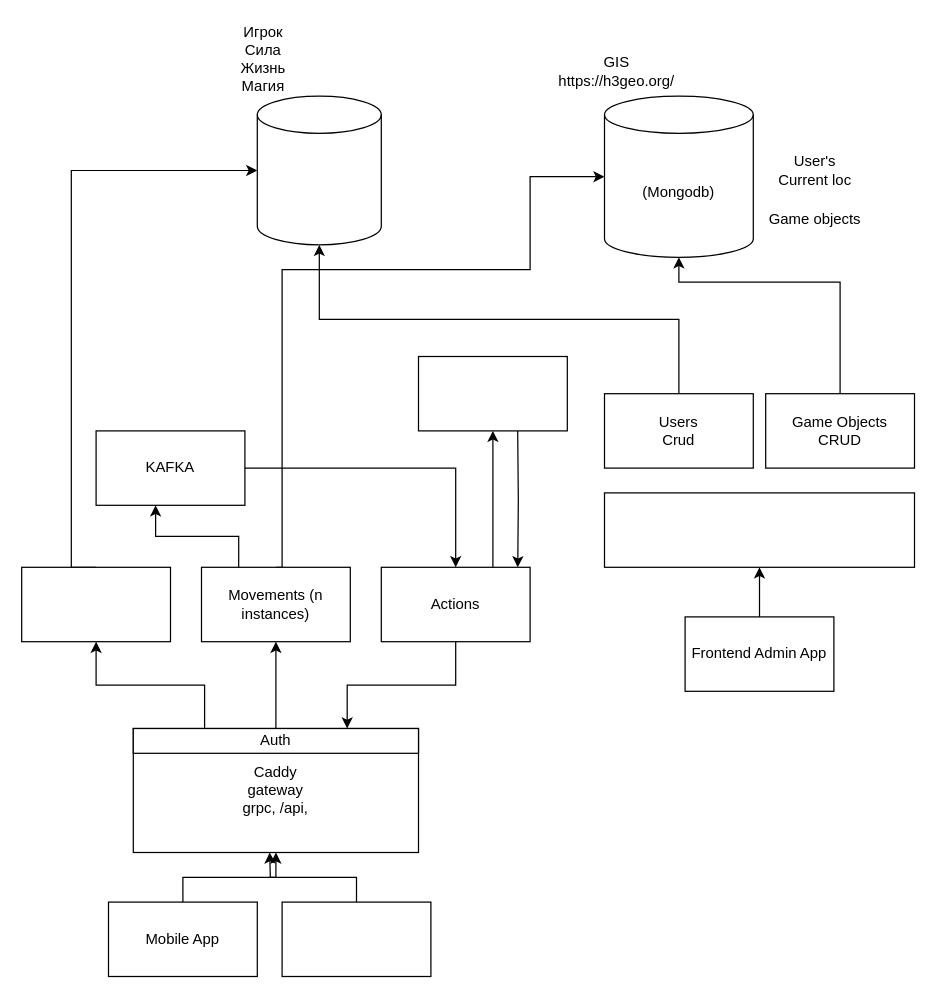
The diagram is 936 pixels wide and 998 high, and some of its shapes have lost their labels. The shapes that lost their labels are listed below. From the top down, each one's centre as x and y in pixels, then its label:
At point 318,170: "Users (SQL)".
At point 492,393: "Battle".
At point 758,529: "Caddy /adminApi".
At point 95,604: "User Info".
At point 356,938: "Frontend App".
